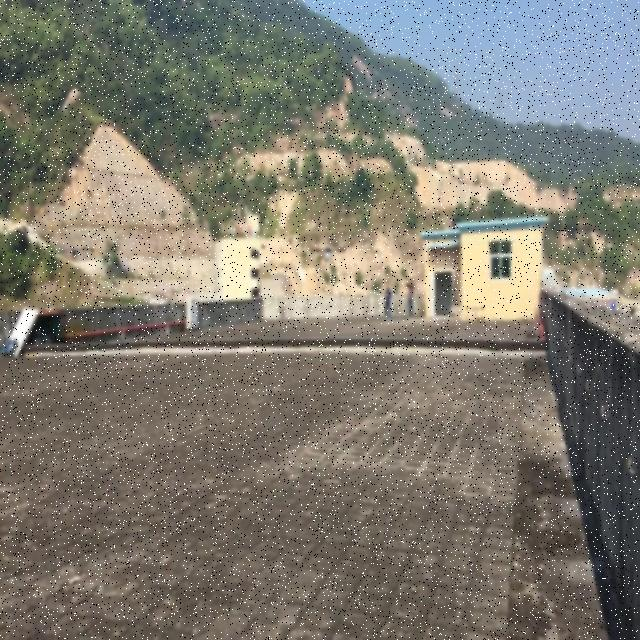UAV: (309, 247, 346, 261)
